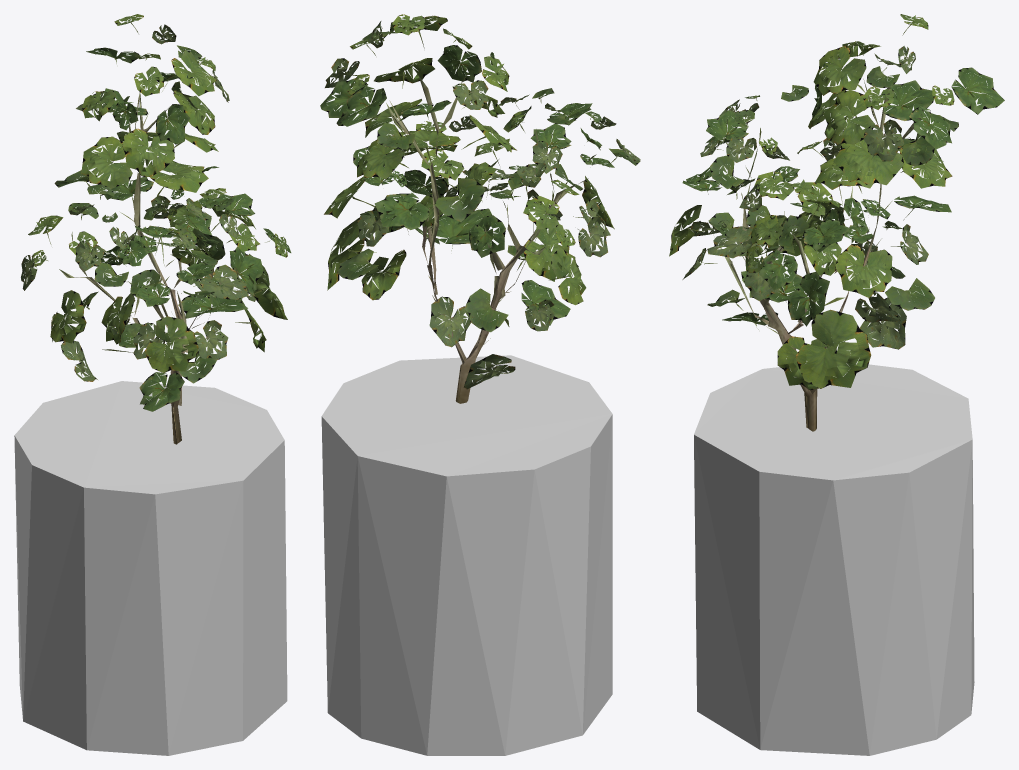
Rendered from plant_tall.glb.
The picture shows the model from 3 angles, left to right: view 1: azimuth 30°, elevation 25°; view 2: azimuth 150°, elevation 25°; view 3: azimuth 270°, elevation 25°; orthographic projection. The views are drawn at different scales.
Visible parts, largest first — view 1: potted_plant_01_leaves; view 2: potted_plant_01_leaves; view 3: potted_plant_01_leaves.
Boxes of the visible parts, x1=… form: potted_plant_01_leaves: x1=14, y1=14, x2=291, y2=755; potted_plant_01_leaves: x1=320, y1=14, x2=640, y2=755; potted_plant_01_leaves: x1=669, y1=14, x2=1004, y2=755.
Bounding box in the file's own units: 0.7902 × 1.93 × 0.8511.
Materials: 3 (2 with a texture image).
